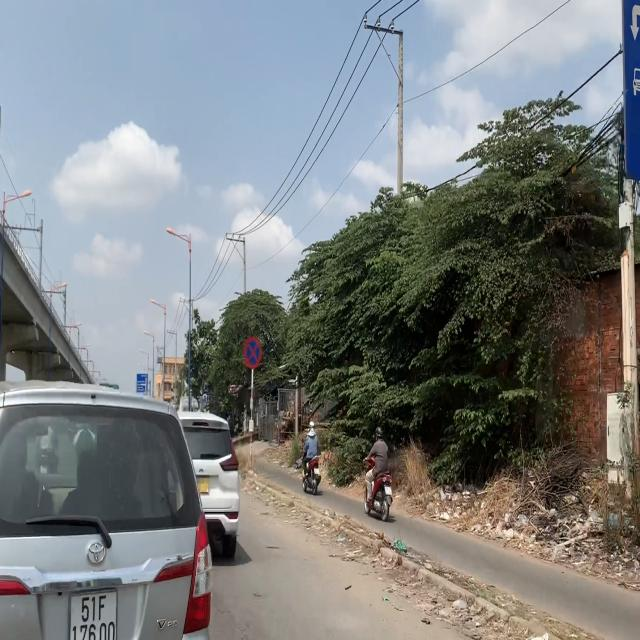Cam dung va do: (243, 336, 263, 369)
